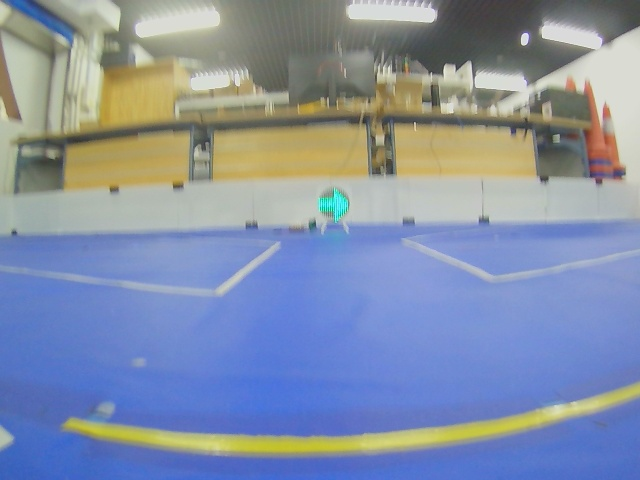right_green: (318, 187, 350, 223)
